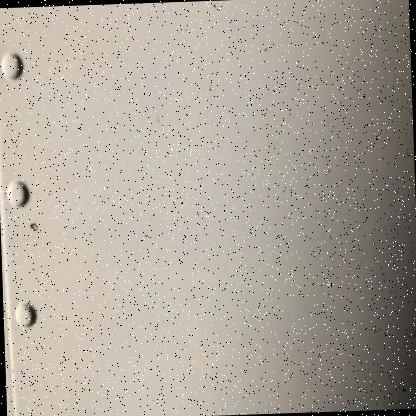Nocrack: (1, 10, 407, 415)
